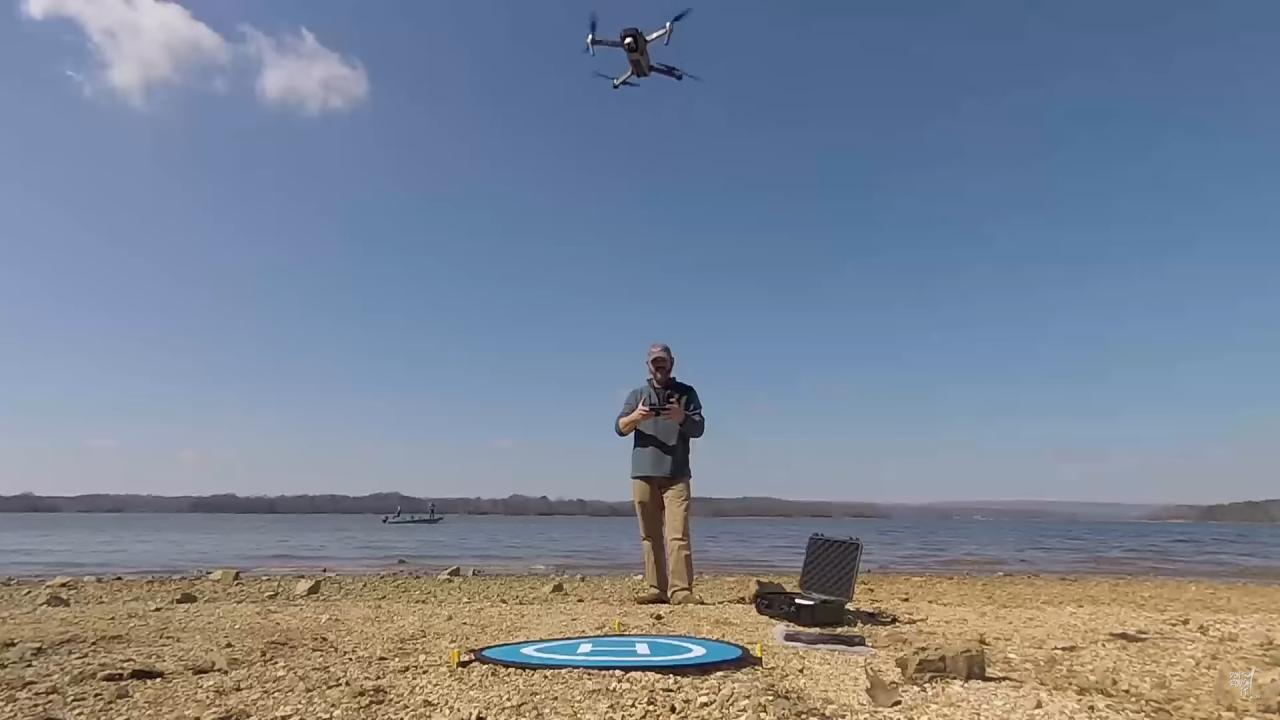Drone: (570, 0, 713, 105)
